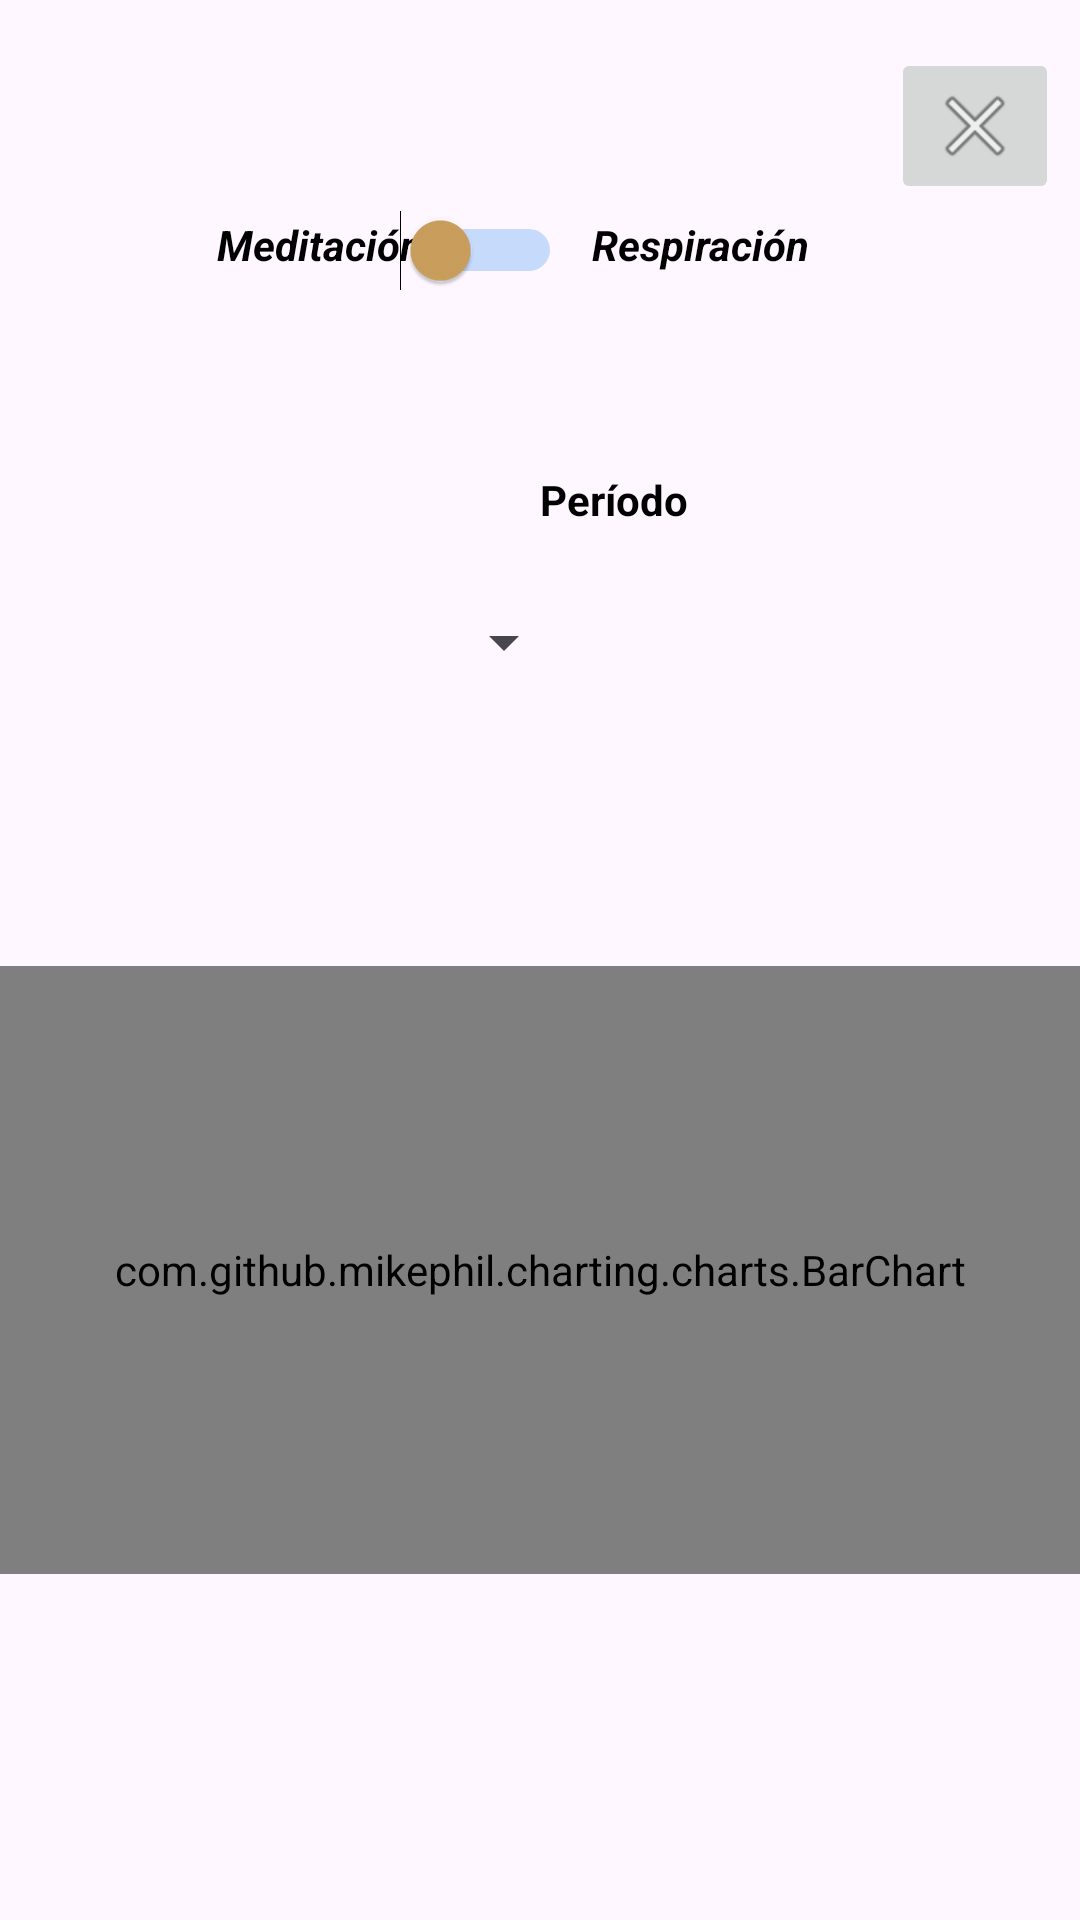

Icons on this 1080×1920 Android screen, each with its box as {"left": x1, "top": y1, "right": x2, "bottom": y2}:
close clear cancel: {"left": 903, "top": 66, "right": 1047, "bottom": 186}
